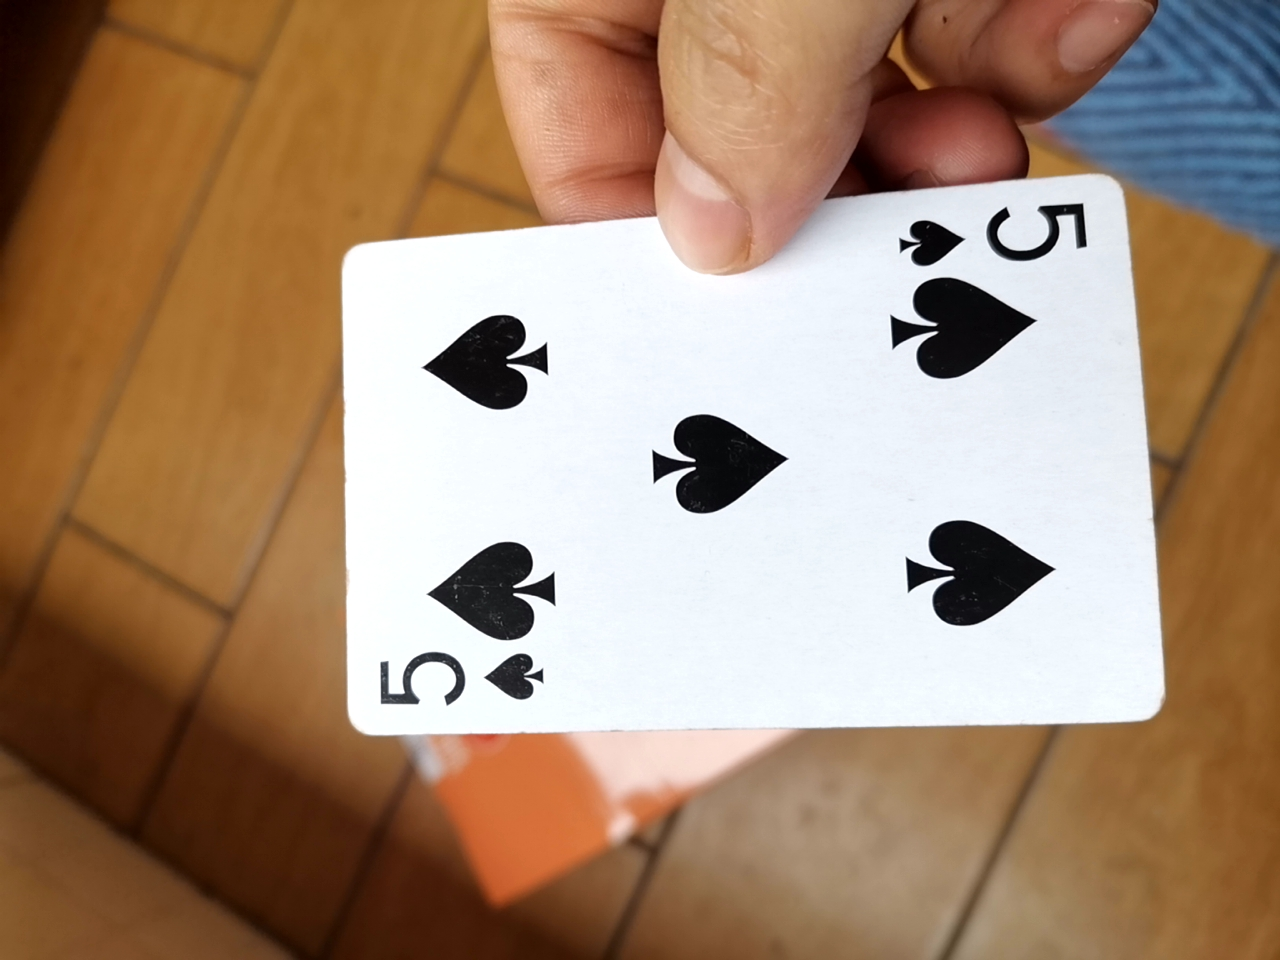ht 5: (313, 173, 1160, 762)
